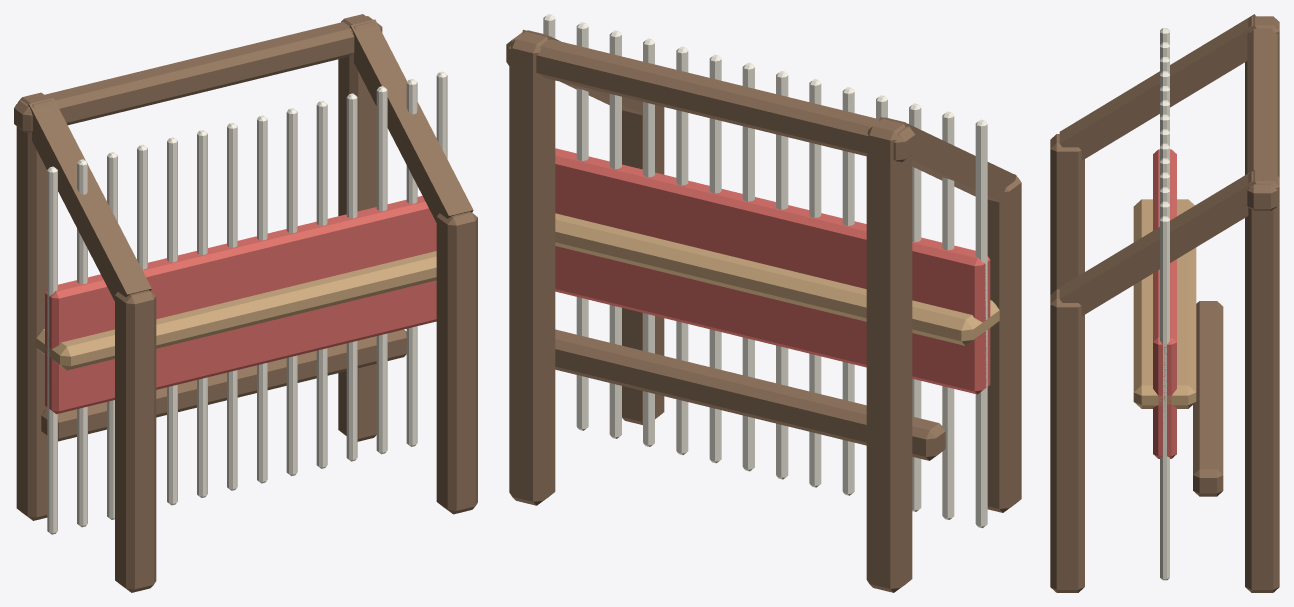
Rendered from loom.glb.
3 renders of one model, left to right at view 1: azimuth 30°, elevation 25°; view 2: azimuth 150°, elevation 25°; view 3: azimuth 270°, elevation 25°, orthographic. The views are drawn at different scales.
Parts seen in each view (by area): view 1: loom_0, loom_2, loom_1, loom_3; view 2: loom_0, loom_2, loom_1, loom_3; view 3: loom_0, loom_3, loom_1, loom_2.
Part boxes in pixels (bbox=[...]): loom_0: bbox=[14, 14, 477, 592]; loom_2: bbox=[45, 196, 436, 414]; loom_1: bbox=[47, 71, 447, 534]; loom_3: bbox=[36, 251, 436, 370]; loom_0: bbox=[506, 29, 1021, 592]; loom_2: bbox=[555, 148, 990, 394]; loom_1: bbox=[543, 14, 987, 528]; loom_3: bbox=[555, 213, 999, 345]; loom_0: bbox=[1050, 14, 1279, 592]; loom_3: bbox=[1133, 199, 1196, 408]; loom_1: bbox=[1160, 28, 1169, 580]; loom_2: bbox=[1153, 149, 1176, 458].
Bounding box in the file's own units: 2 × 2 × 1.01.
